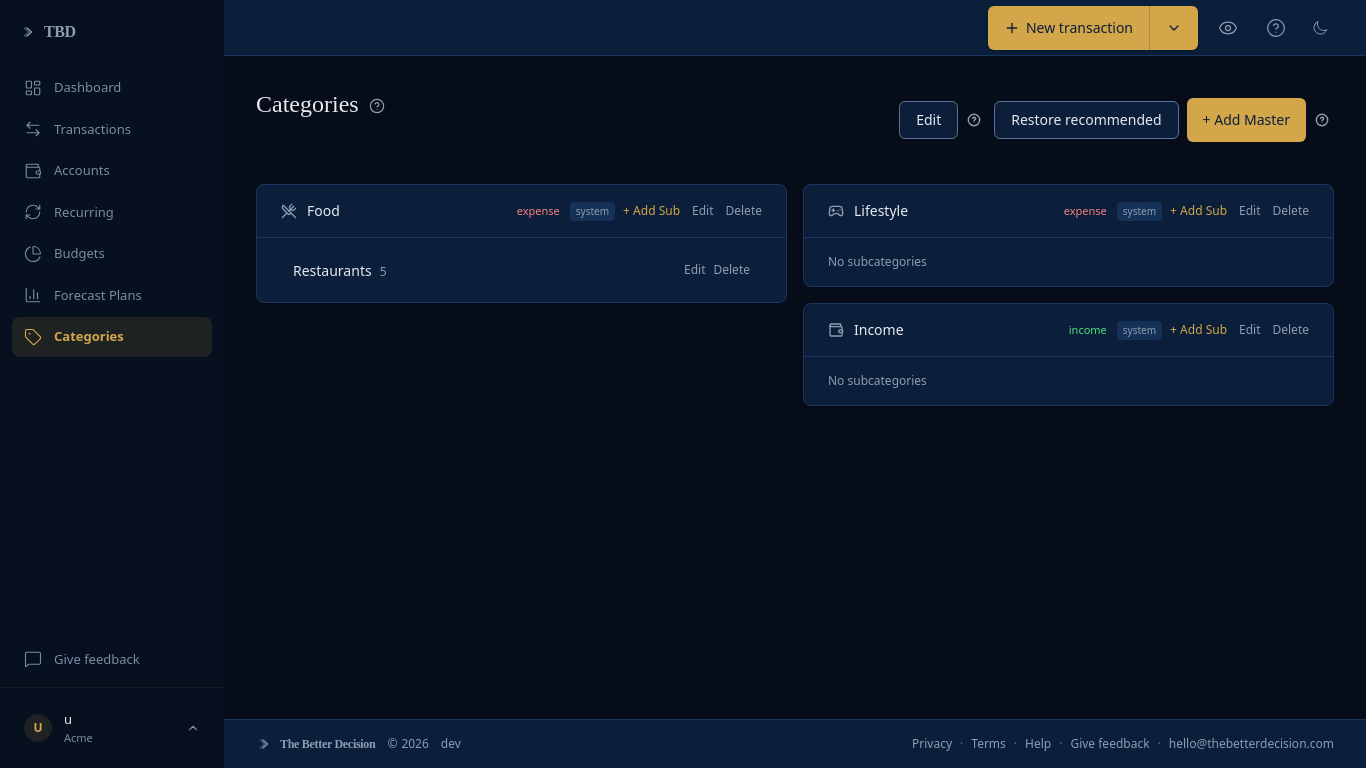
Scenario: CategoriesPage -C2b render-level gates › entering Edit mode adds drag handles on subcategory rows ONLY
Expected: the text "Restaurants" is shown, left=293, top=261, right=372, bottom=280
Click the button with test id "categories-edit-toggle" at (929, 120), box left=899, top=101, right=958, bottom=139
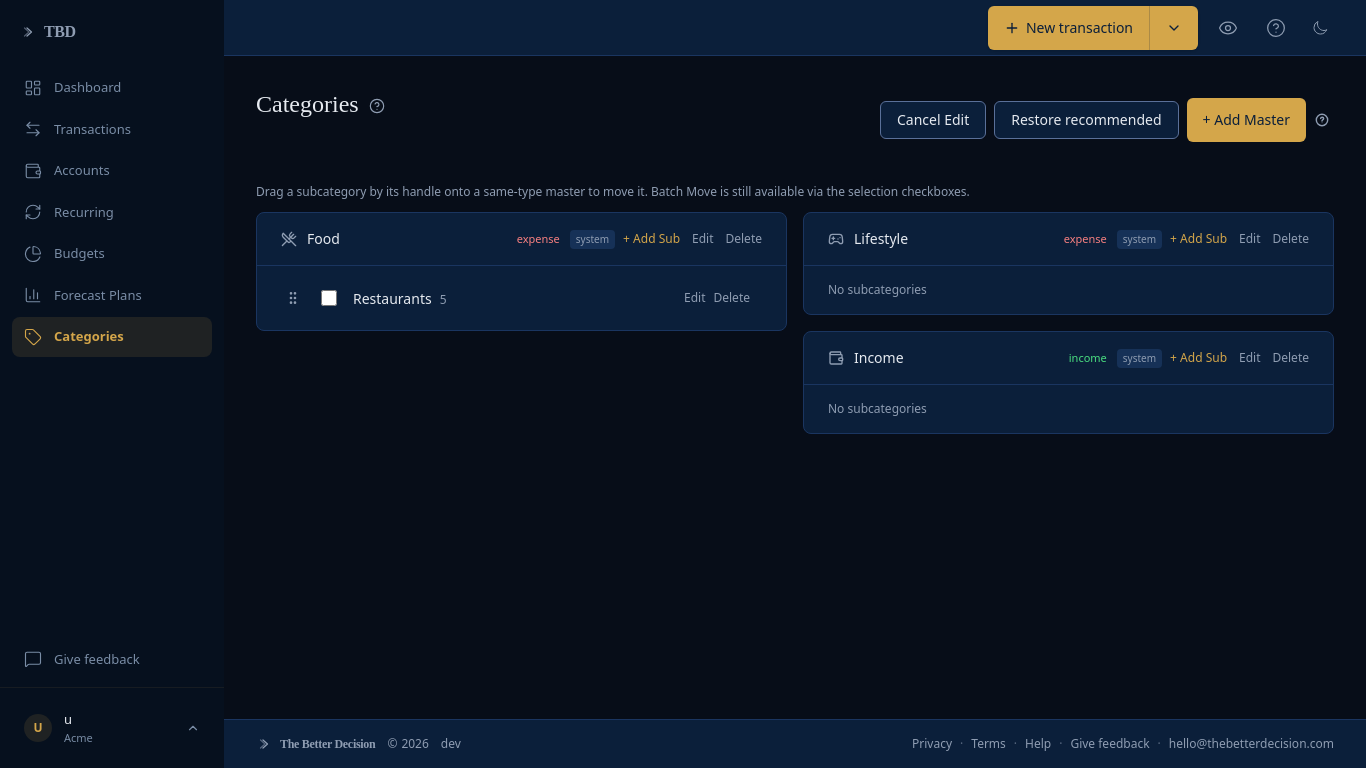
Expected: the button with test id "sub-drag-handle-101" is shown, left=281, top=282, right=305, bottom=314
Expected: the text with test id "categories-drag-instructions" is shown, left=256, top=183, right=970, bottom=200
